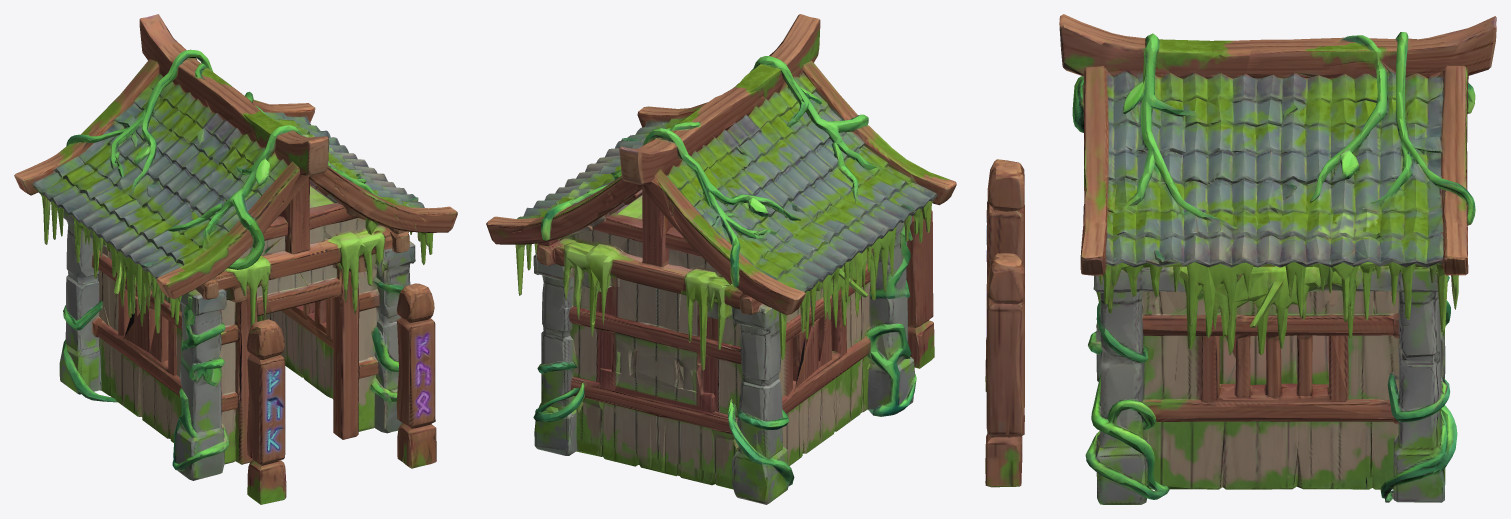
The model's file is shrine.glb.
3 renders of one model, left to right at view 1: azimuth 30°, elevation 25°; view 2: azimuth 150°, elevation 25°; view 3: azimuth 270°, elevation 25°, orthographic. The views are drawn at different scales.
Bounding box in the file's own units: 1.62 × 1.71 × 1.9.
1 material, 1 textured.
